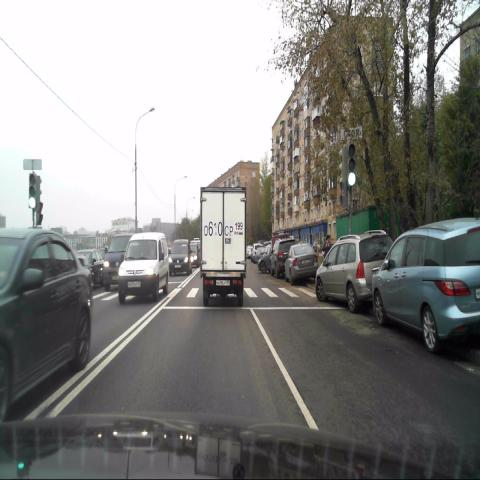6_16: (340, 127, 362, 139)
